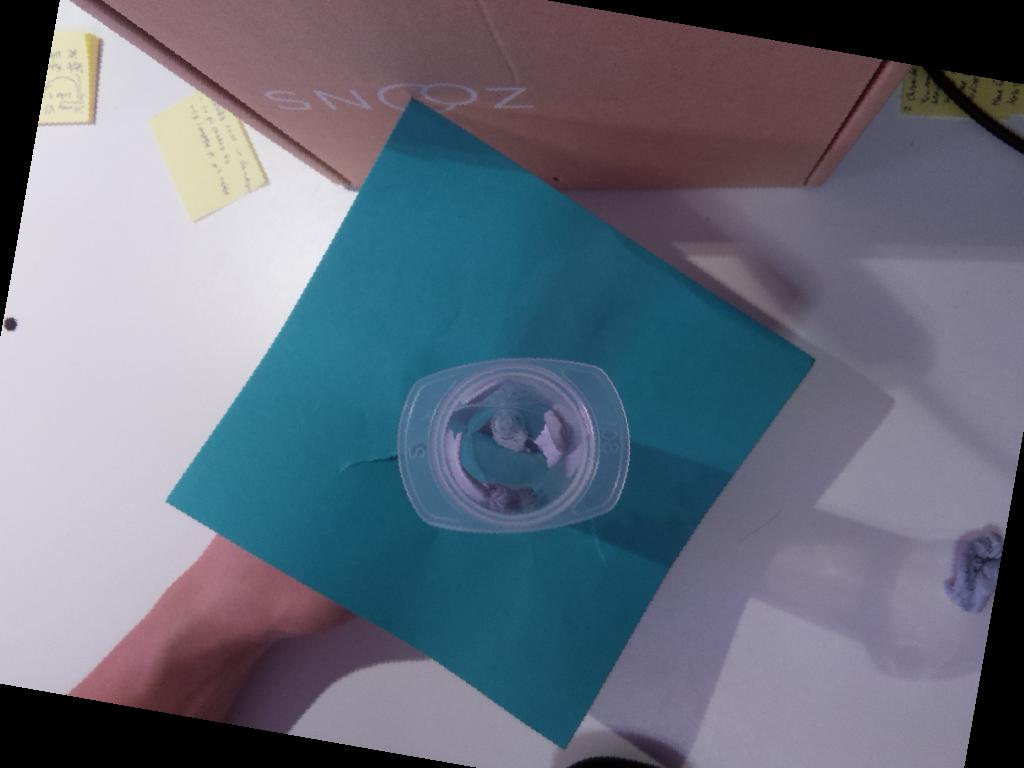dirty: (397, 358, 631, 533)
